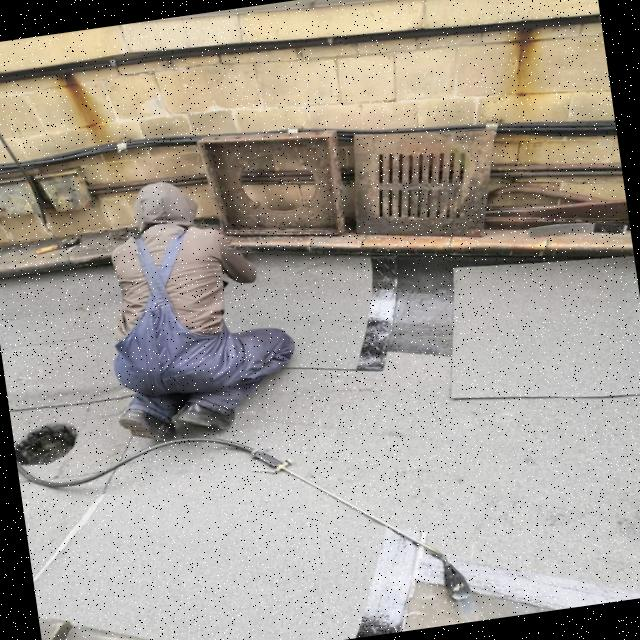NoHelmet: (128, 177, 202, 234)
